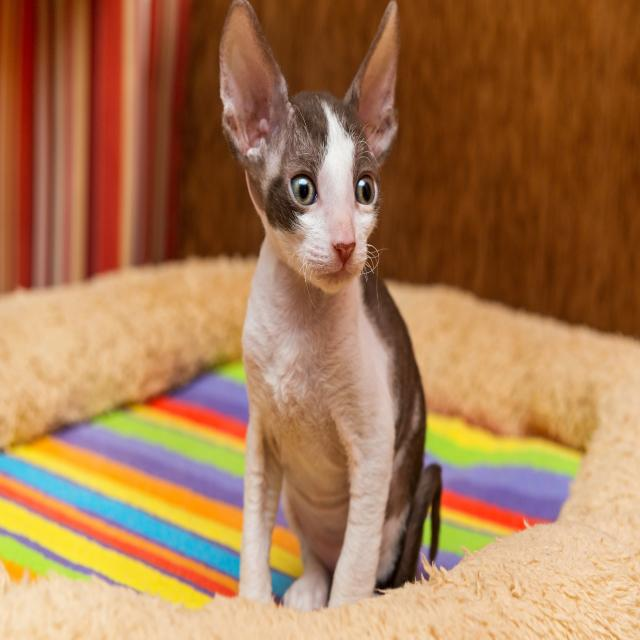Cornish Rex: (214, 0, 449, 616)
